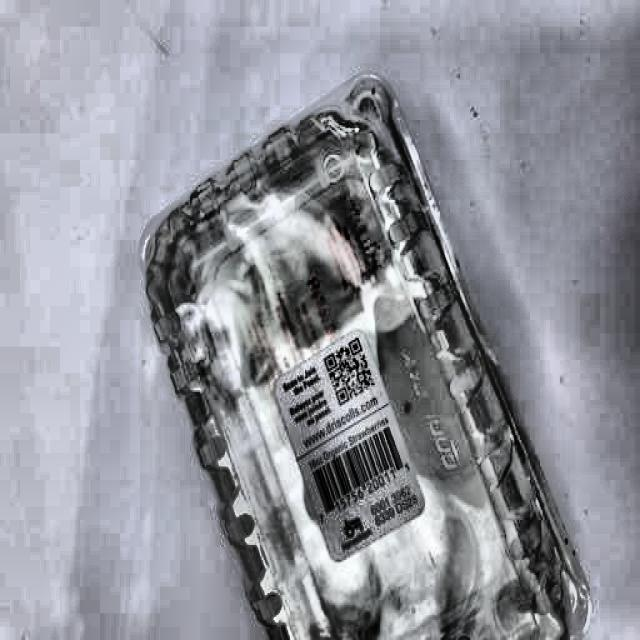plastic: (137, 80, 593, 640)
